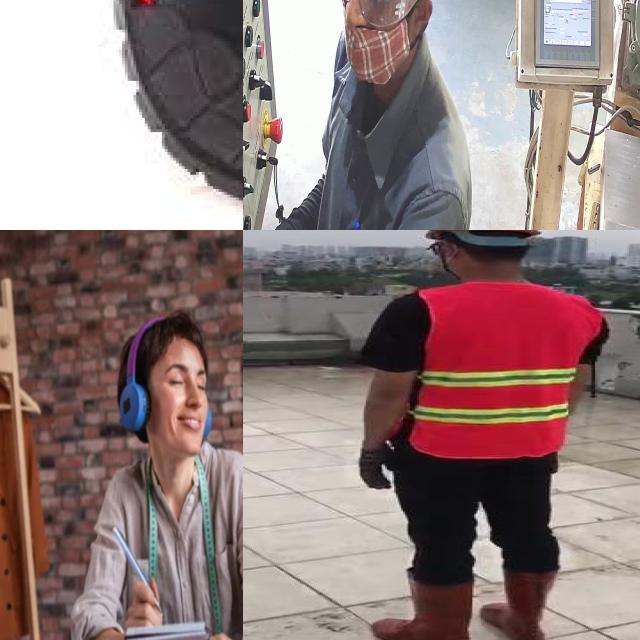Ear-protection: (112, 309, 226, 471)
No_Ear-Protection: (407, 0, 432, 61)
Sandals: (9, 0, 243, 230)
boots: (369, 571, 474, 640), (481, 567, 561, 640)
face_mask: (345, 19, 410, 85)
glasses: (359, 0, 418, 28)
hand_glove: (357, 444, 398, 489)
person: (341, 230, 629, 640)
vest: (410, 282, 600, 461)
